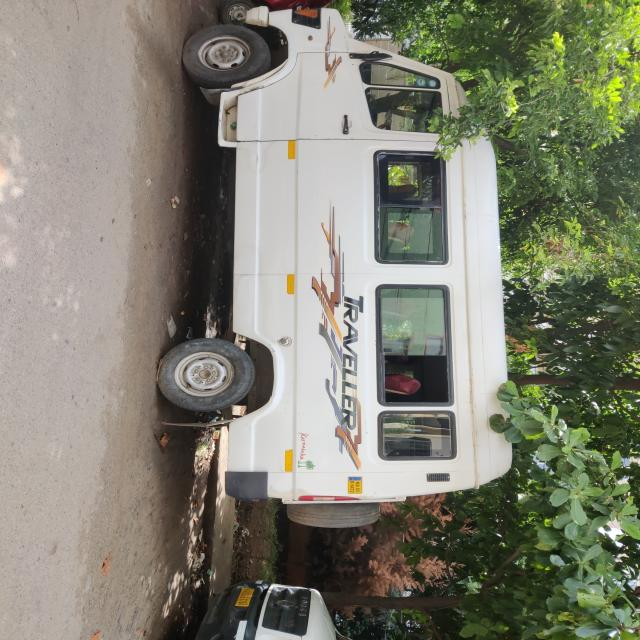Traveller: (158, 0, 512, 528), (195, 580, 337, 640)
